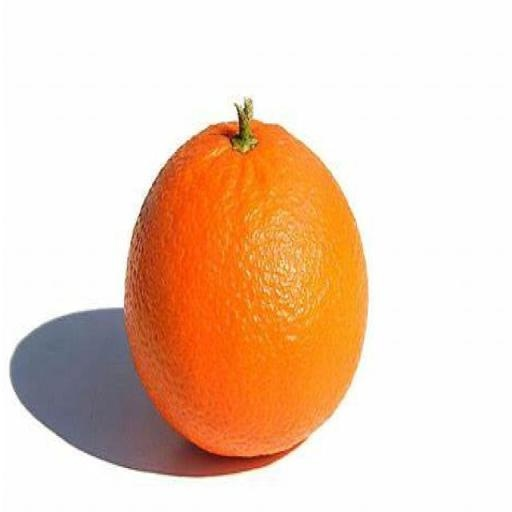fruit: (124, 102, 366, 455)
